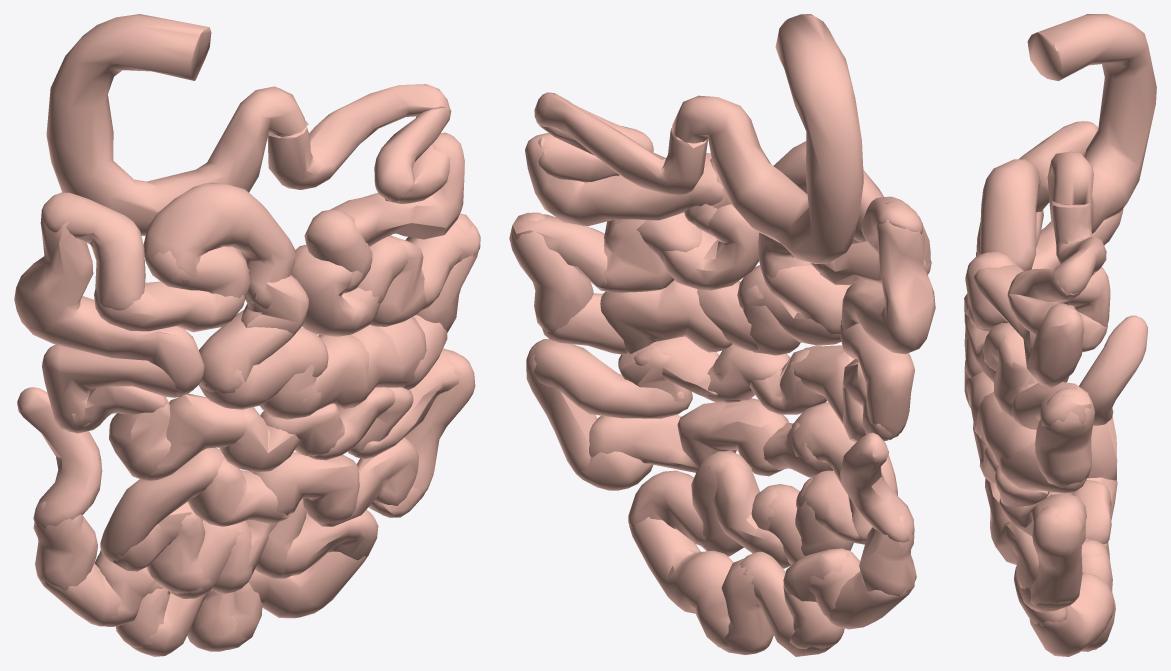
The model's file is small-intestine.glb.
3 views of the same model, side by side, from view 1: azimuth 30°, elevation 25°; view 2: azimuth 150°, elevation 25°; view 3: azimuth 270°, elevation 25° (orthographic). The views are drawn at different scales.
Parts seen in each view (by area): view 1: FJ2573, FJ2621, FJ2616, FJ2606, FJ2620, FJ2574, FJ2599, FJ2623, FJ2580, FJ2578, FJ2619, FJ2626 (+42 smaller); view 2: FJ2573, FJ2621, FJ2623, FJ2606, FJ2605, FJ2610, FJ2578, FJ2589, FJ2626, FJ2608, FJ2574, FJ2599 (+41 smaller); view 3: FJ2573, FJ2616, FJ2623, FJ2575, FJ2599, FJ2608, FJ2589, FJ2606, FJ2607, FJ2610, FJ2620, FJ2628 (+24 smaller).
Part boxes in pixels (x1,y1,x2,y2): FJ2573: (46, 14, 308, 235); FJ2621: (14, 196, 204, 396); FJ2616: (143, 182, 295, 308); FJ2606: (267, 84, 449, 189); FJ2620: (41, 192, 145, 310); FJ2574: (42, 344, 193, 432); FJ2599: (17, 387, 102, 528); FJ2623: (330, 132, 464, 246); FJ2580: (100, 448, 224, 562); FJ2578: (250, 452, 359, 523); FJ2619: (94, 281, 244, 332); FJ2626: (290, 244, 380, 336); FJ2573: (671, 14, 863, 264); FJ2621: (841, 201, 935, 354); FJ2623: (525, 133, 723, 226); FJ2606: (534, 92, 708, 195); FJ2605: (532, 340, 687, 418); FJ2610: (600, 280, 732, 353); FJ2578: (677, 398, 789, 476); FJ2589: (629, 517, 733, 613); FJ2626: (662, 204, 759, 290); FJ2608: (511, 212, 593, 333); FJ2574: (840, 320, 914, 439); FJ2599: (840, 432, 914, 542); FJ2573: (1027, 14, 1156, 233); FJ2616: (980, 159, 1040, 270); FJ2623: (973, 265, 1083, 387); FJ2575: (1030, 505, 1082, 612); FJ2599: (1079, 315, 1147, 425); FJ2608: (1035, 387, 1095, 487); FJ2589: (1029, 572, 1114, 656); FJ2606: (1052, 202, 1106, 295); FJ2607: (1011, 382, 1091, 429); FJ2610: (976, 391, 1036, 465); FJ2620: (1019, 121, 1098, 212); FJ2628: (993, 328, 1038, 419).
Size of the model in its own units: 1.92 by 2.7 by 0.7936.
